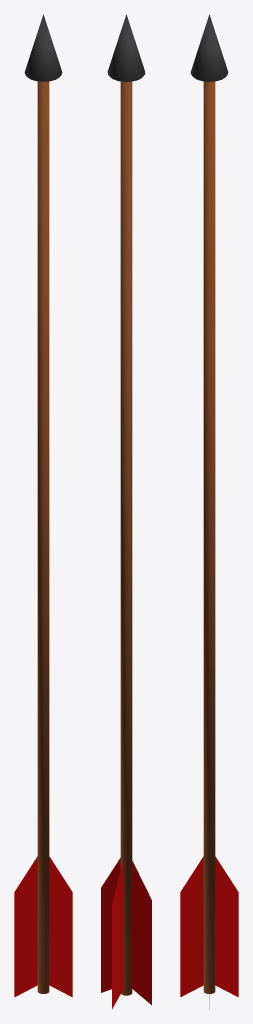
File: arrow.fbx
The picture shows the model from 3 angles, left to right: view 1: azimuth 90°, elevation 25°; view 2: azimuth 150°, elevation 25°; view 3: azimuth 270°, elevation 25°; orthographic projection.
Visible parts, largest first — view 1: Cylinder; view 2: Cylinder; view 3: Cylinder.
Part boxes in pixels (x1,y1,x2,y2): Cylinder: (14, 14, 72, 997); Cylinder: (101, 14, 151, 1008); Cylinder: (180, 14, 238, 1009).
Size of the model in its own units: 55.49 by 1028 by 55.49.
